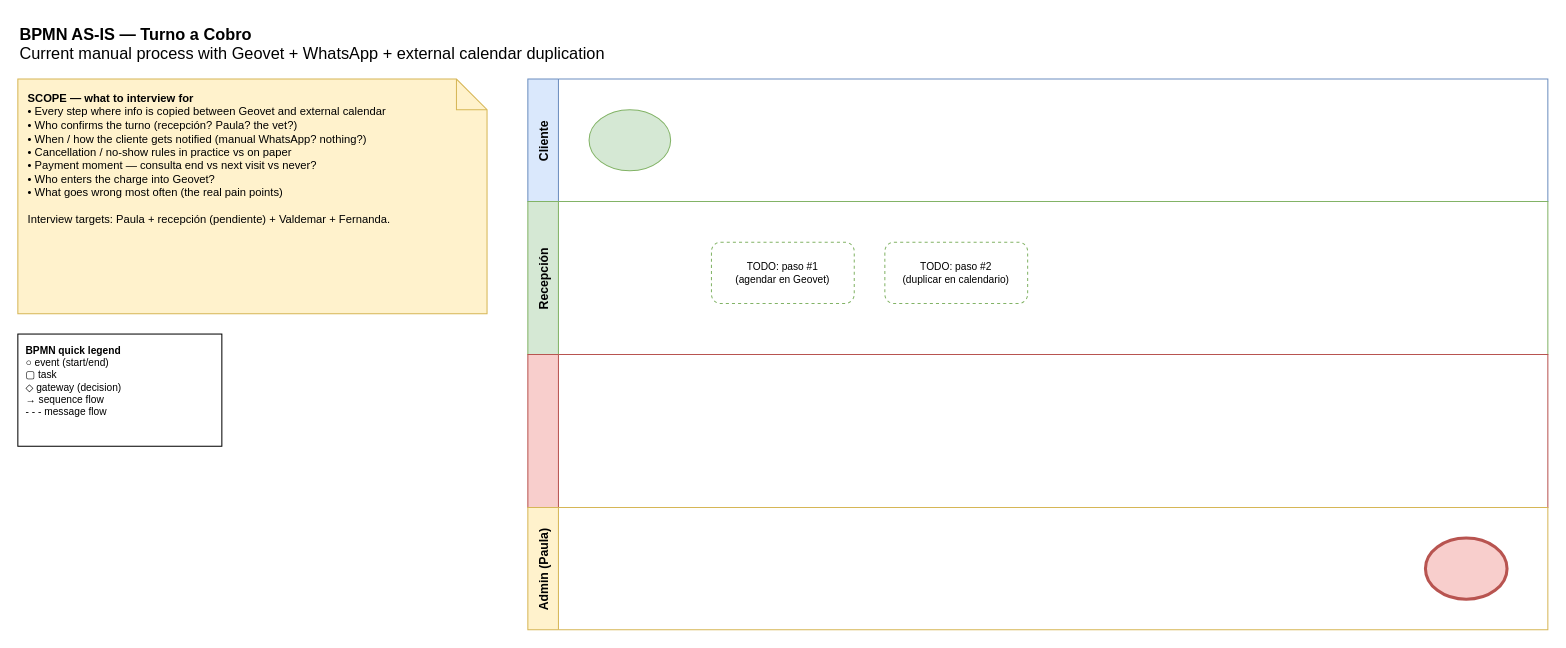
Some shapes in this 1566 by 648 pixel diagram are drawn without their labels. Here are the shapes that lost their labels. From the top down, the centre of each, then its label:
the point at 629,140: WhatsApp "quiero turno"
the point at 1037,430: Veterinario
the point at 1465,568: Cobro registrado
